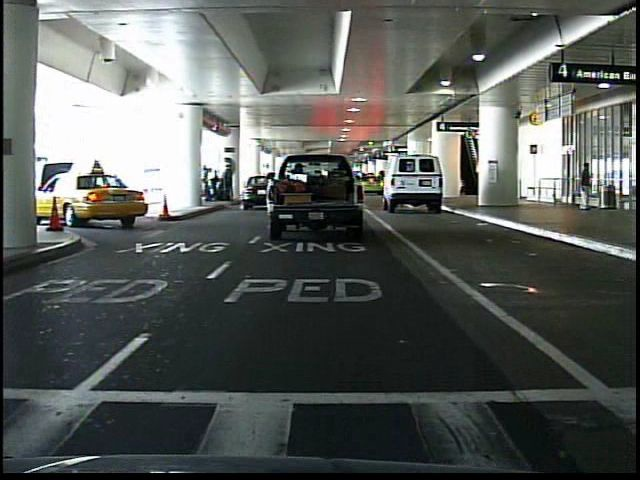person: (574, 161, 595, 214)
